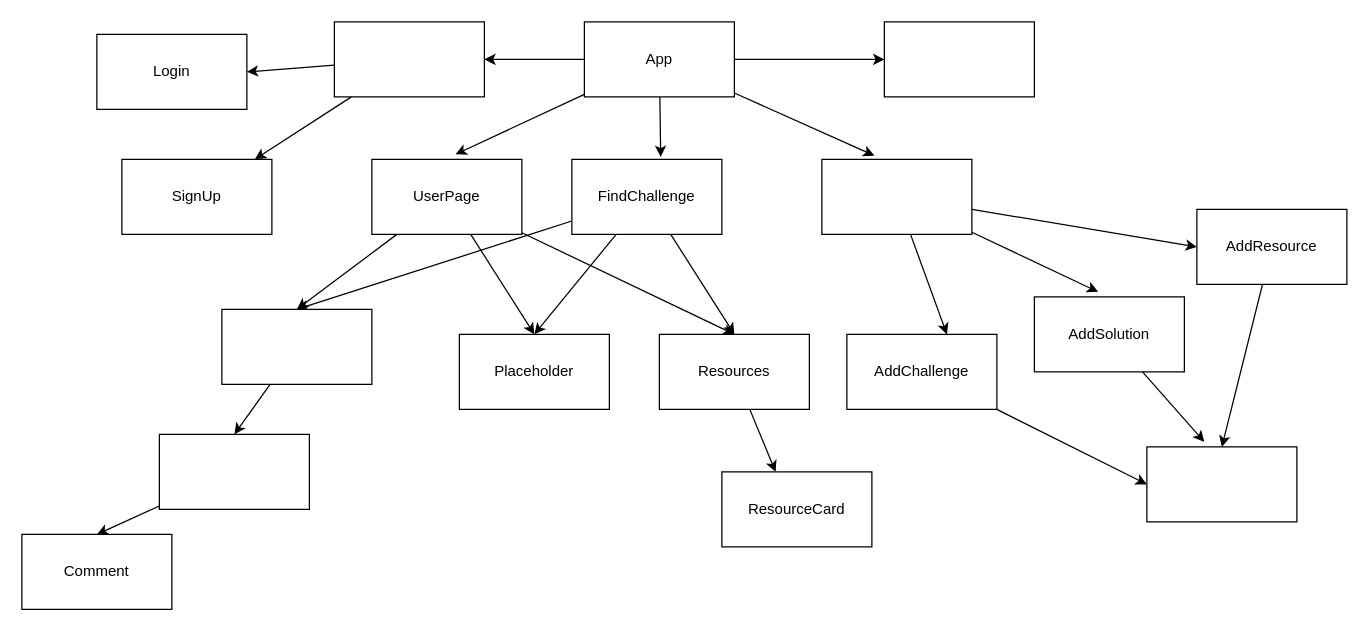
The diagram is 1369 pixels wide and 631 high, and some of its shapes have lost their labels. Here are the shapes that lost their labels. From the top down, the centre of each, then its label:
the point at 408,59: LandingPage
the point at 958,59: NavBar
the point at 896,196: Submission
the point at 296,346: Challenge
the point at 233,471: Solution
the point at 1221,484: TextareaInput
